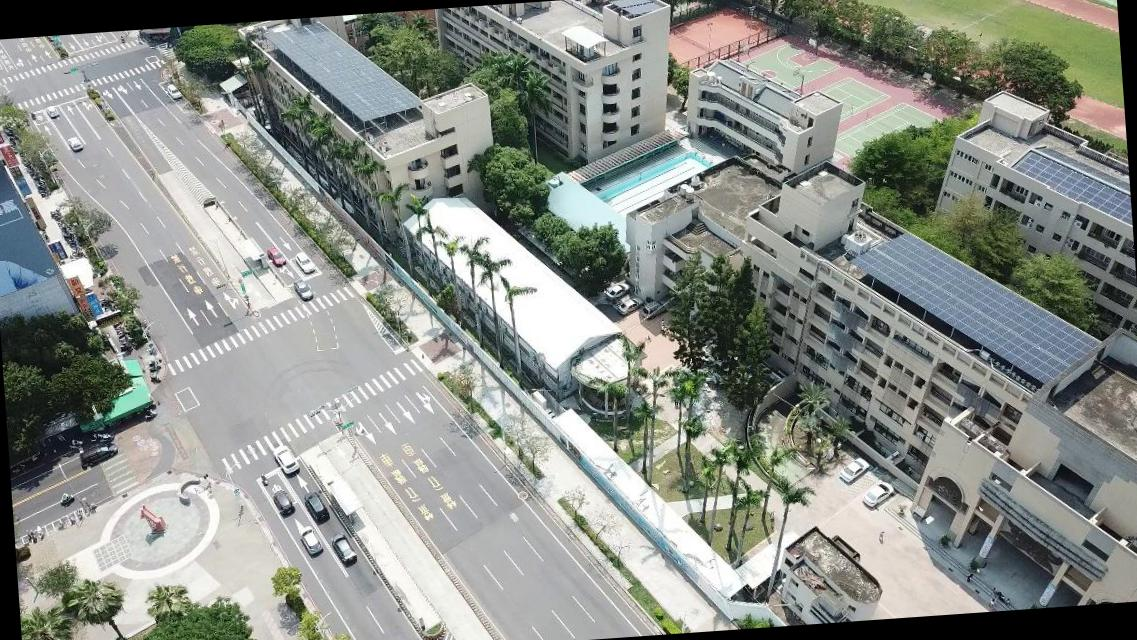vehicle: (78, 442, 121, 468), (304, 489, 332, 524), (332, 531, 358, 567), (862, 480, 895, 508), (275, 443, 300, 476), (841, 459, 868, 484), (643, 297, 671, 319), (273, 491, 294, 520), (293, 248, 316, 274), (616, 294, 642, 316), (302, 527, 320, 556), (606, 280, 630, 300), (294, 278, 314, 301), (268, 245, 286, 268), (164, 80, 182, 100), (68, 134, 84, 152), (46, 105, 59, 118)
